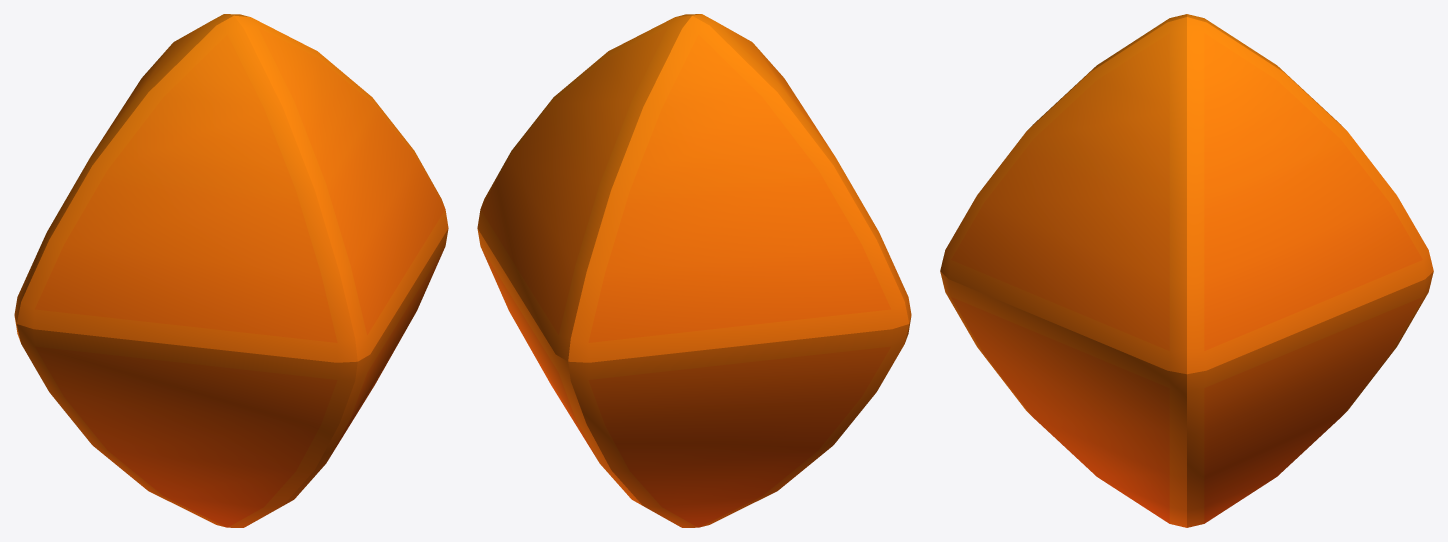
Rendered from Gem_V1_01.fbx.
3 renders of one model, left to right at view 1: azimuth 30°, elevation 25°; view 2: azimuth 150°, elevation 25°; view 3: azimuth 270°, elevation 25°, orthographic.
Visible parts, largest first — view 1: Gem_V1_01; view 2: Gem_V1_01; view 3: Gem_V1_01.
Part boxes in pixels (x1,y1,x2,y2): Gem_V1_01: (14,14,448,527); Gem_V1_01: (477,14,911,527); Gem_V1_01: (940,14,1433,527).
Bounding box in the file's own units: 34.95 × 39.7 × 34.95.
